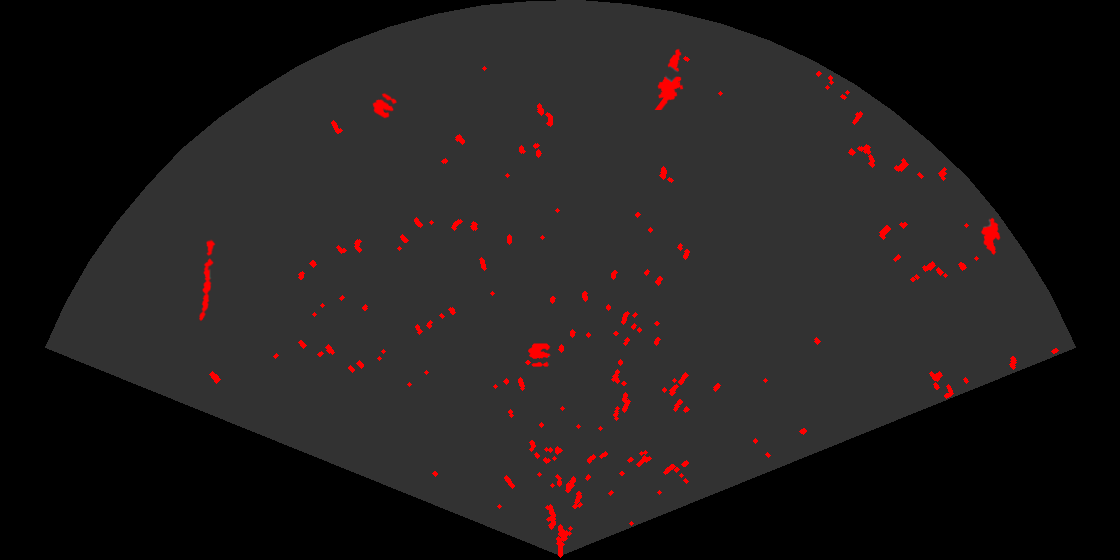AUV: (979, 216, 1002, 257)
ball: (371, 91, 399, 120), (527, 342, 552, 368)
chain: (198, 239, 217, 323)
frogman: (653, 47, 685, 110)
